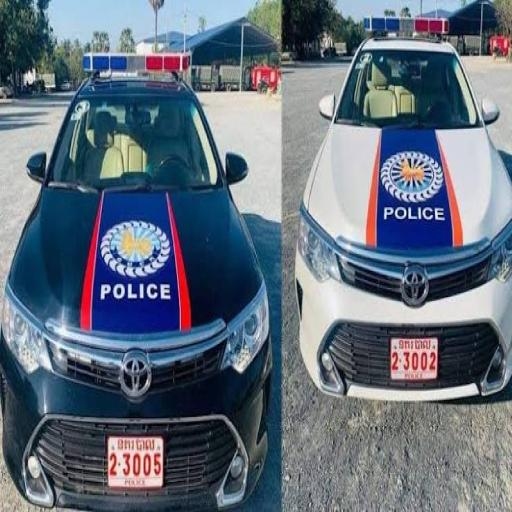Plate Number: (107, 438, 163, 489), (390, 339, 438, 384)
